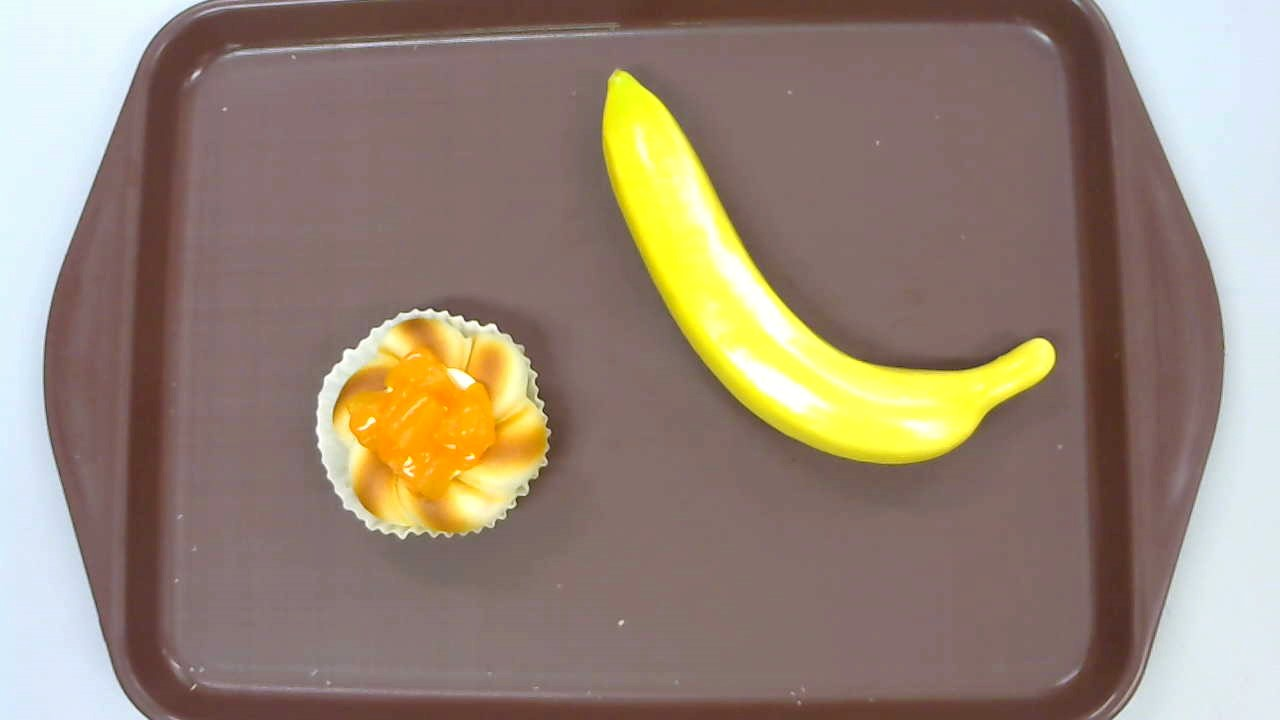banana: (601, 68, 1055, 464)
mango tart: (315, 309, 552, 539)
